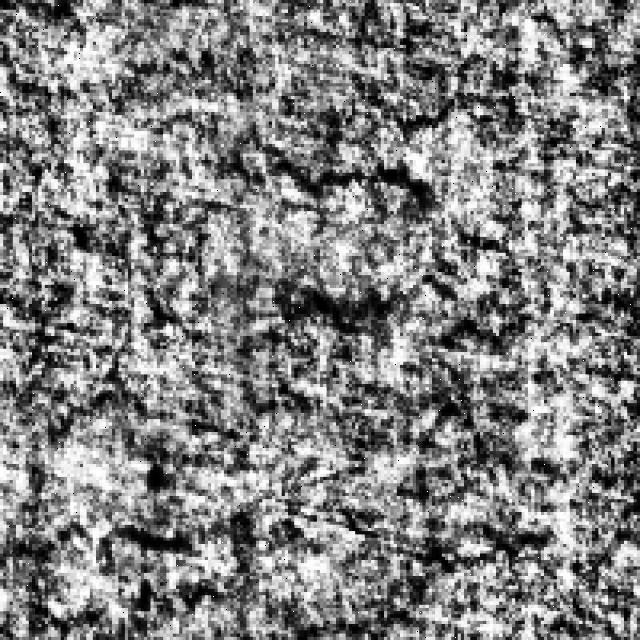Pitted_Surface: (272, 150, 563, 356), (314, 394, 556, 634)
